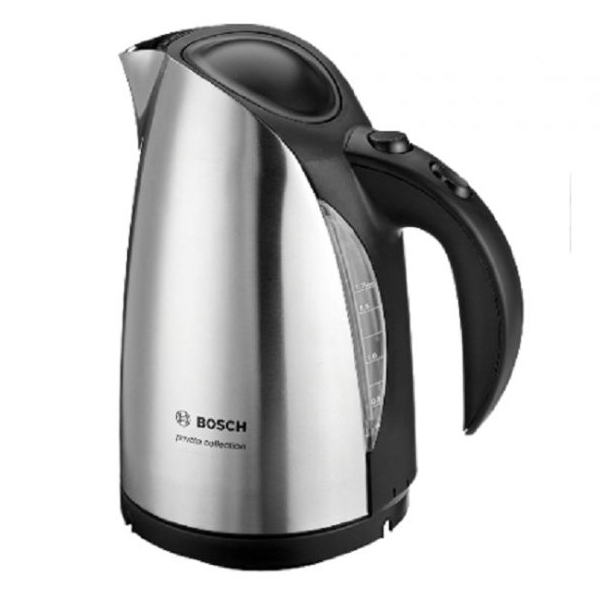Bosch: (193, 412, 257, 439)
